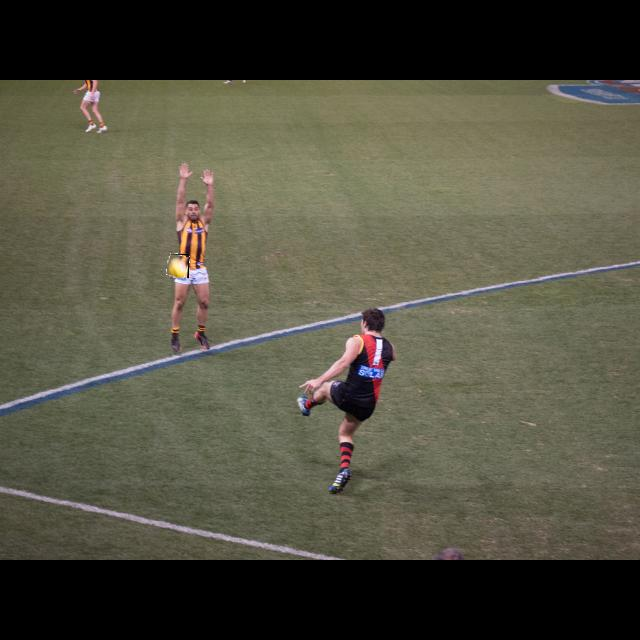Football: (167, 254, 189, 278)
